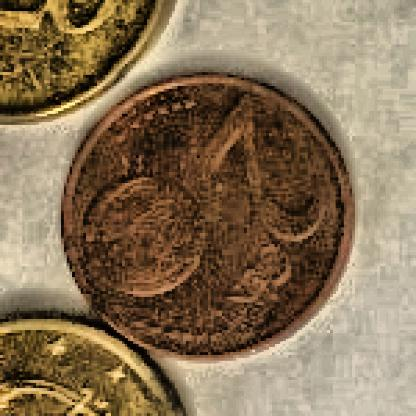coin: (62, 72, 357, 361)
